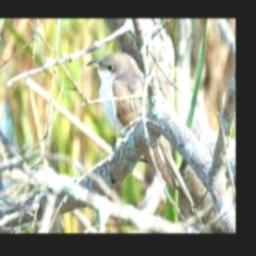Cuckoo: (86, 53, 189, 195)
